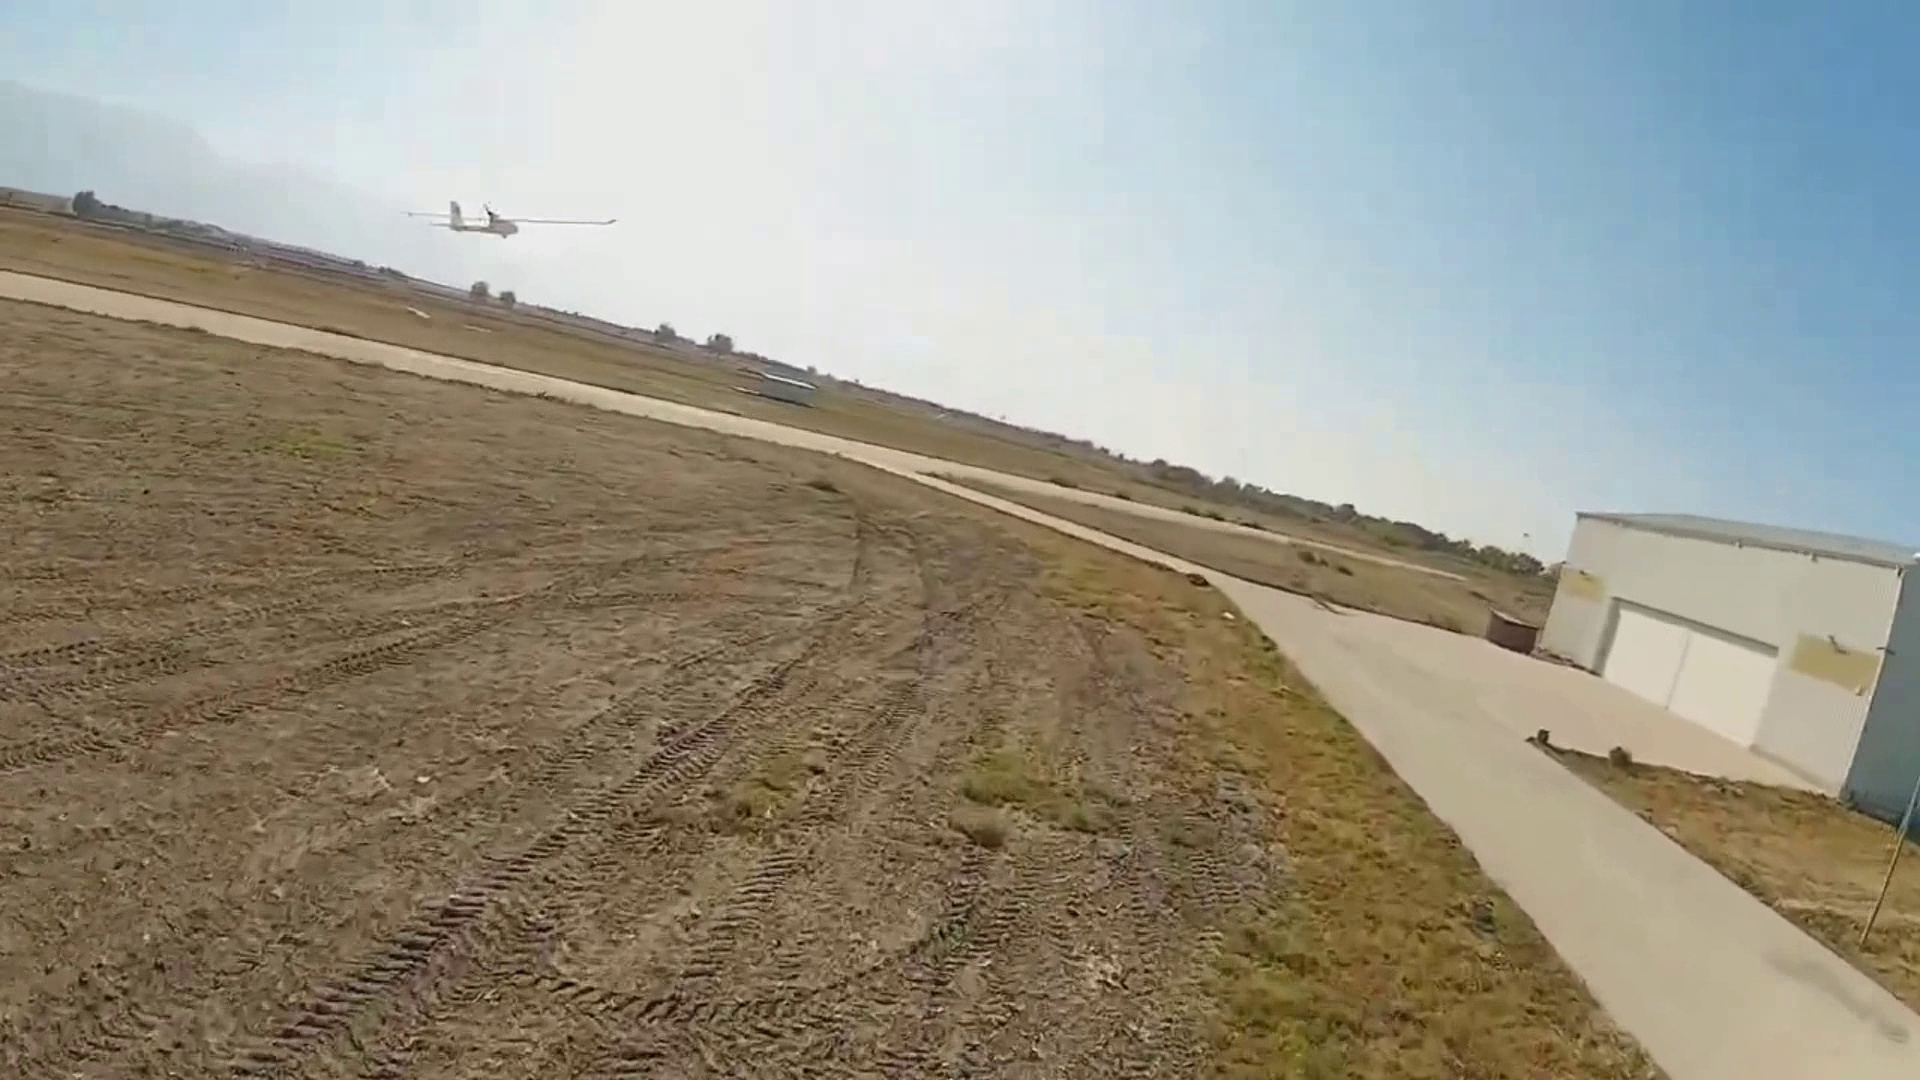airplane: (401, 177, 620, 237)
